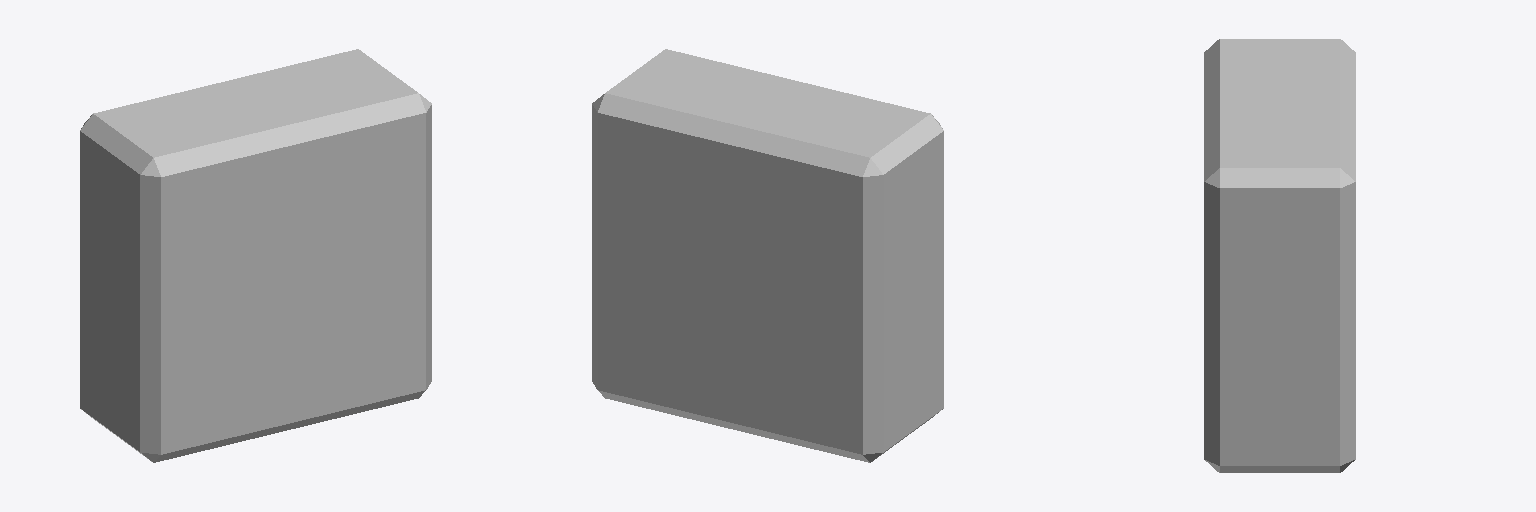
File: squareShape.obj
3 renders of one model, left to right at view 1: azimuth 30°, elevation 25°; view 2: azimuth 150°, elevation 25°; view 3: azimuth 270°, elevation 25°, orthographic.
Visible parts, largest first — view 1: square.001_Cube.150; view 2: square.001_Cube.150; view 3: square.001_Cube.150.
Part boxes in pixels (bbox=[...]): square.001_Cube.150: bbox=[80, 49, 431, 462]; square.001_Cube.150: bbox=[592, 49, 943, 462]; square.001_Cube.150: bbox=[1204, 39, 1355, 472].
Bounding box in the file's own units: 0.8808 × 0.8808 × 0.3963.